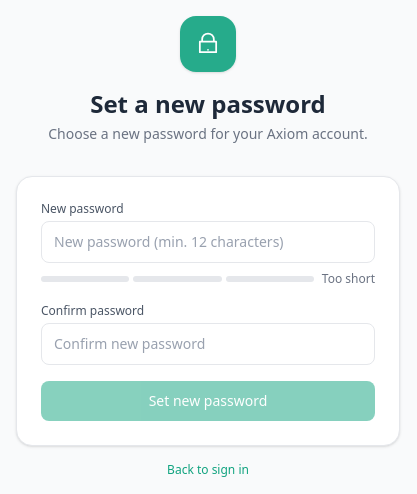
Test: ResetPasswordView › switchesToExpiredStateWhenSubmissionTokenExpires
Expected: the button with test id "reset-password-submit" is shown, [41,381,375,421]
Type "NewSecurePassword123" into the password field with test id "reset-password-new".
click(208, 242); type("NewSecurePassword123")  # box [41,221,375,263]
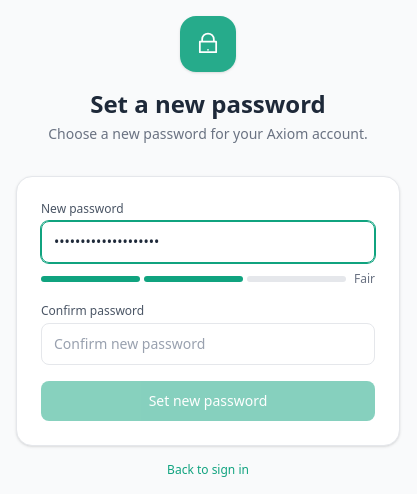
Type "NewSecurePassword123" into the password field with test id "reset-password-confirm".
click(208, 344); type("NewSecurePassword123")  # box [41,323,375,365]
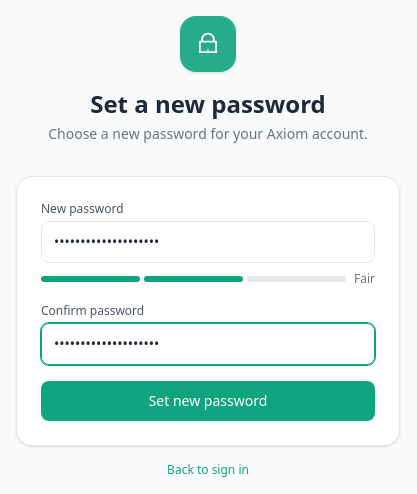
Click the button with test id "reset-password-submit".
click(208, 401)  # box [41,381,375,421]
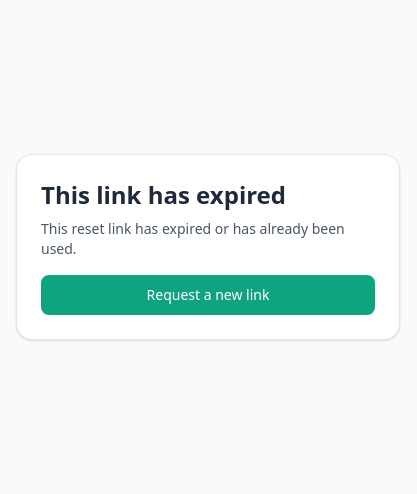
Expected: the heading "This link has expired" is shown, [41,178,286,211]
